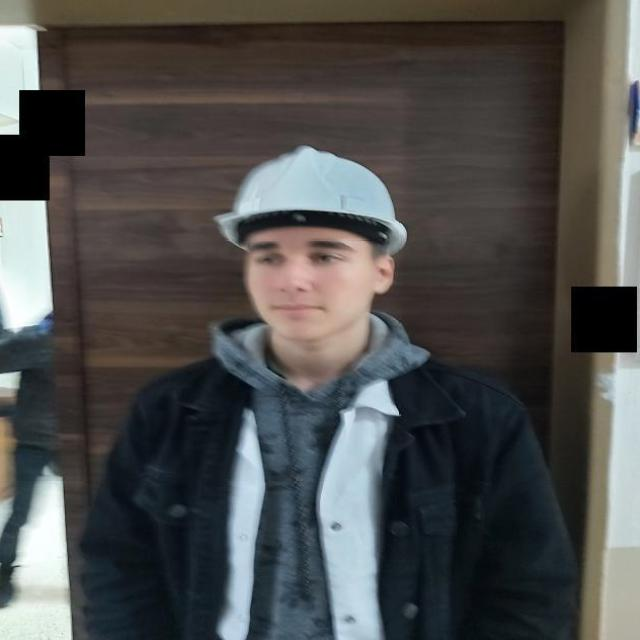helmet: (214, 144, 409, 255)
